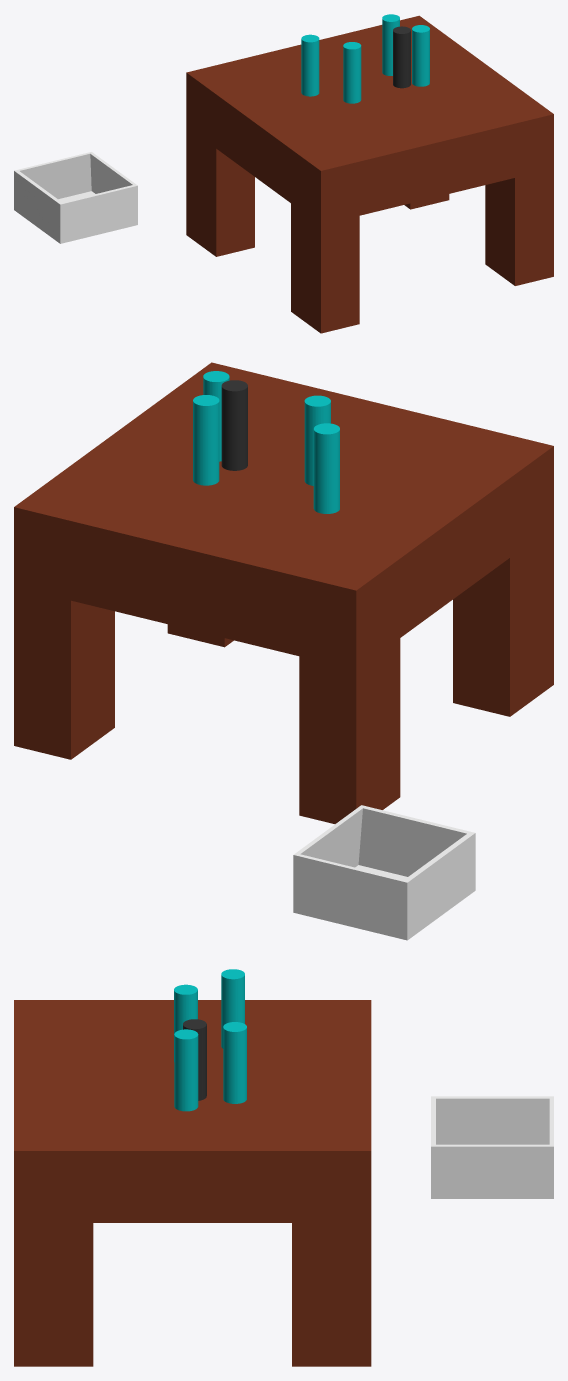
The model's file is can_world_5_cans.dae.
3 renders of one model, top to bottom at view 1: azimuth 30°, elevation 25°; view 2: azimuth 150°, elevation 25°; view 3: azimuth 270°, elevation 25°, orthographic. The views are drawn at different scales.
Parts seen in each view (by area): view 1: base (×9), SketchUp (×2); view 2: base (×9), SketchUp (×2); view 3: base (×8), SketchUp (×2).
Part boxes in pixels (box(x1,y1,x2,y2)): base (×9): box(186, 14, 553, 333); SketchUp (×2): box(14, 152, 137, 243); base (×9): box(14, 362, 553, 823); SketchUp (×2): box(293, 805, 475, 940); base (×8): box(14, 969, 371, 1366); SketchUp (×2): box(431, 1096, 553, 1198).
Size of the model in its own units: 1.3 by 1.36 by 0.801.
